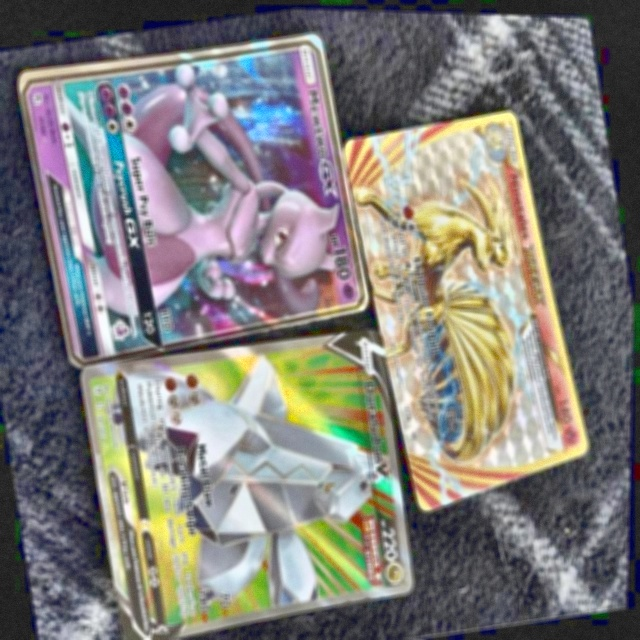card: (16, 29, 370, 368), (81, 325, 416, 640), (342, 107, 590, 510)
